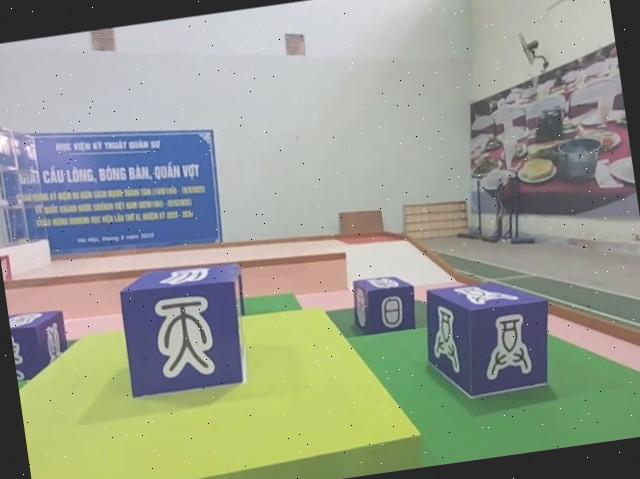R2 Fake Blue: (117, 259, 261, 403), (7, 305, 69, 381), (348, 274, 418, 340)
R2 Real Blue: (420, 276, 561, 406)
